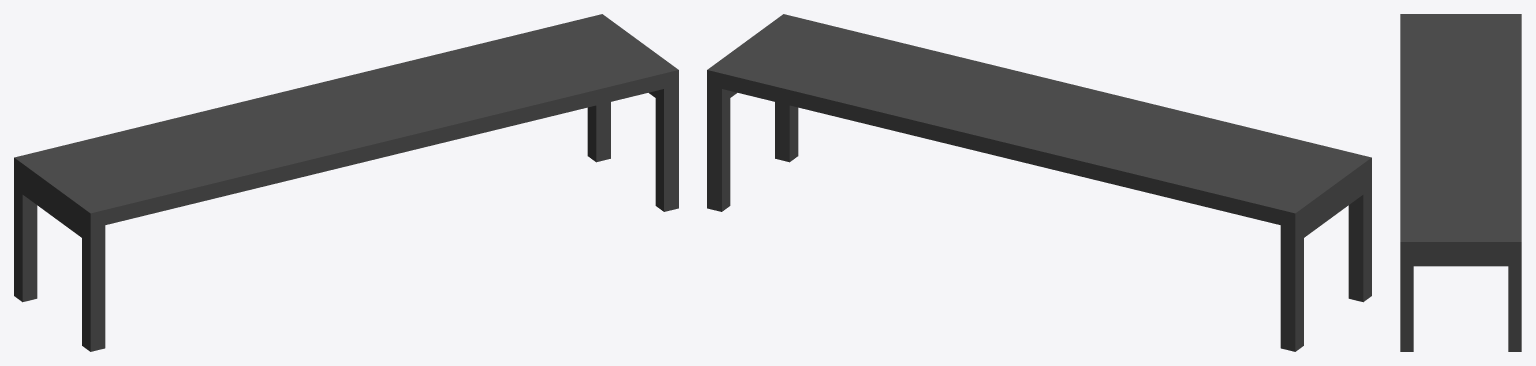
The model's file is House-2.obj.
3 renders of one model, left to right at view 1: azimuth 30°, elevation 25°; view 2: azimuth 150°, elevation 25°; view 3: azimuth 270°, elevation 25°, orthographic. The views are drawn at different scales.
Bounding box in the file's own units: 4 × 0.9 × 0.9.
1 material, 1 textured.
